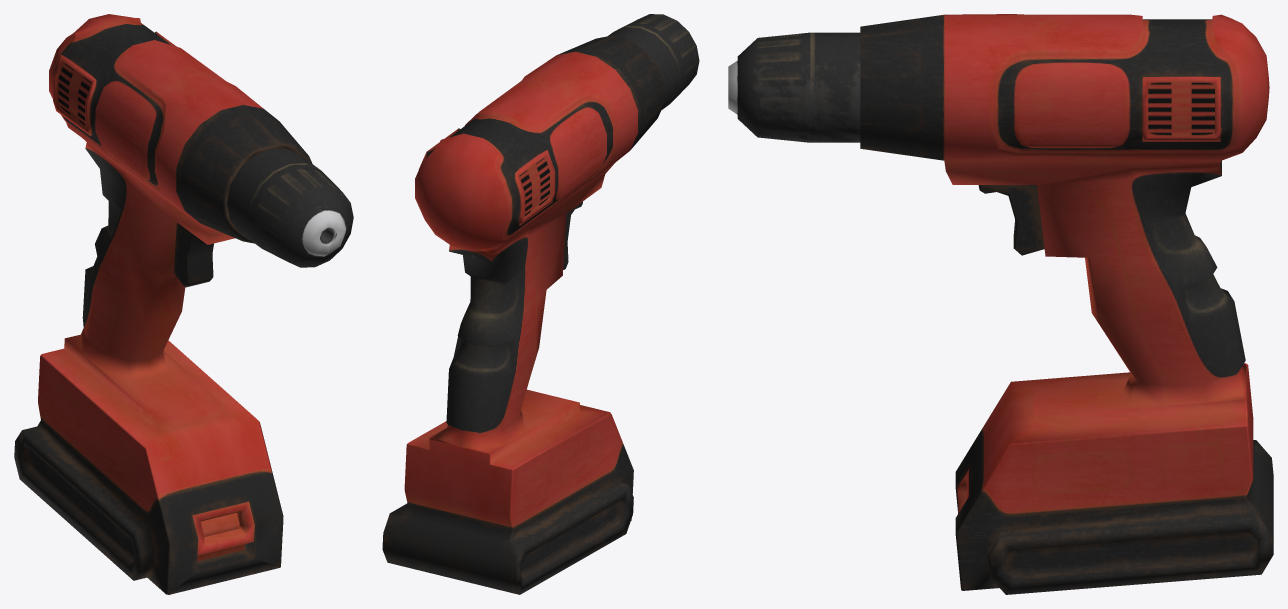
File: demo-device.glb
3 views of the same model, side by side, from view 1: azimuth 30°, elevation 25°; view 2: azimuth 150°, elevation 25°; view 3: azimuth 270°, elevation 25° (orthographic). The views are drawn at different scales.
Visible parts, largest first — view 1: Body, Chuck, Trigger; view 2: Body, Chuck; view 3: Body, Chuck, Trigger.
Part boxes in pixels (x1,y1,x2,y2): Body: (14, 14, 312, 594); Chuck: (227, 148, 353, 267); Trigger: (173, 222, 213, 287); Body: (382, 35, 664, 594); Chuck: (608, 14, 699, 110); Body: (860, 14, 1273, 594); Chuck: (728, 32, 860, 142); Trigger: (978, 185, 1044, 255).
Size of the model in its own units: 0.0604 by 0.1949 by 0.1792.
Materials: 1 (1 with a texture image).
